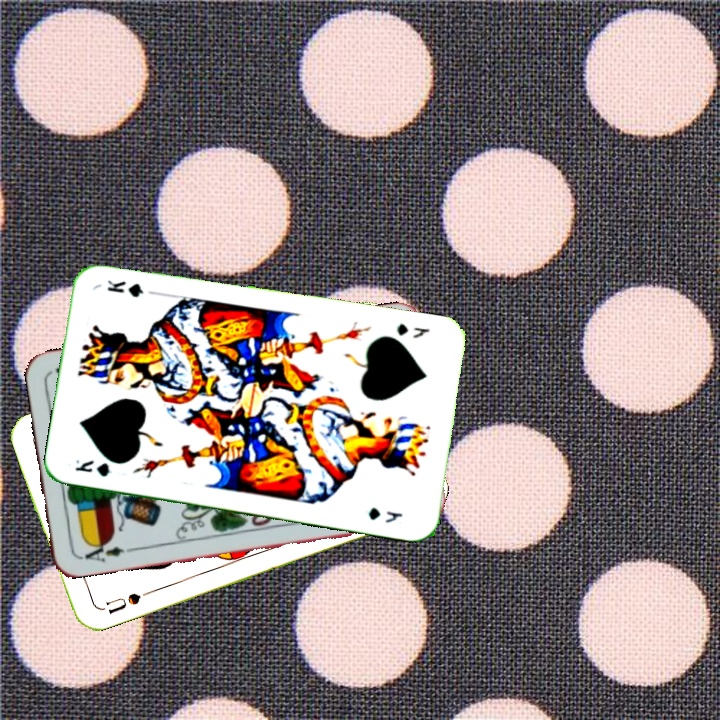EA: (75, 537, 134, 565)
GK: (71, 455, 112, 479), (392, 319, 432, 341)
SU: (94, 588, 143, 617)
